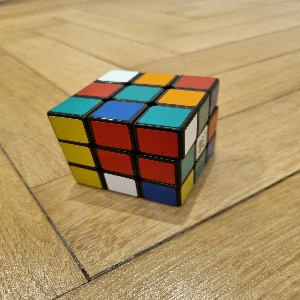cube: (47, 68, 220, 209)
